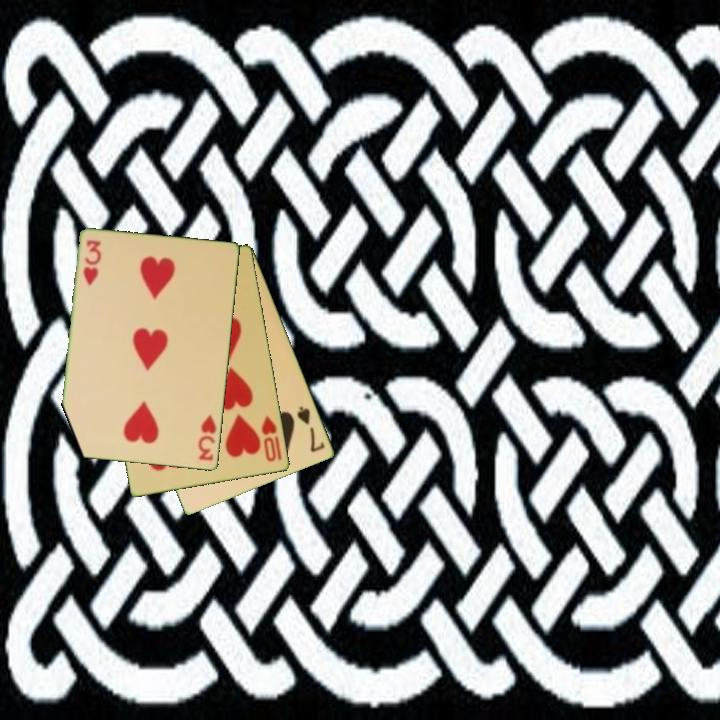10h: (258, 412, 280, 465)
3h: (195, 412, 219, 464), (80, 237, 104, 289)
7s: (294, 403, 328, 455)
